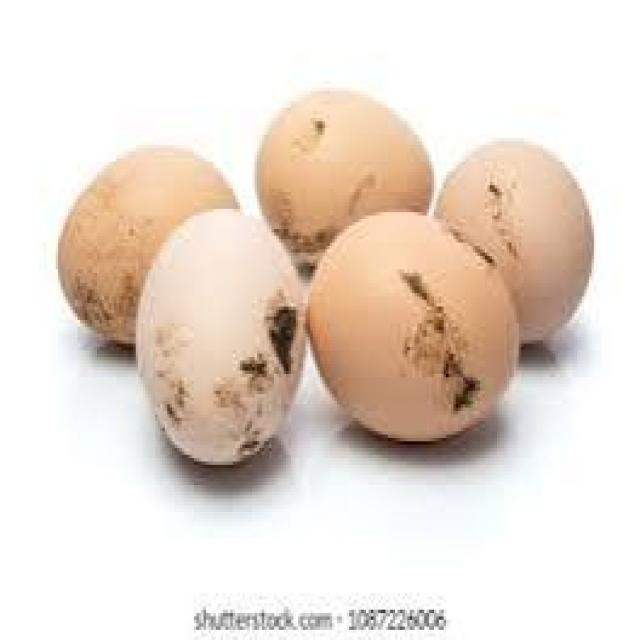Dirt Stained Egg: (310, 191, 522, 447), (137, 207, 307, 480), (55, 131, 240, 362), (447, 133, 615, 340), (252, 79, 434, 241)
